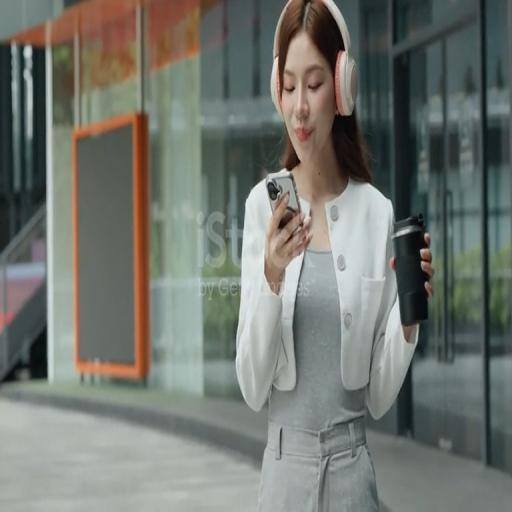earphone: (269, 2, 358, 124)
